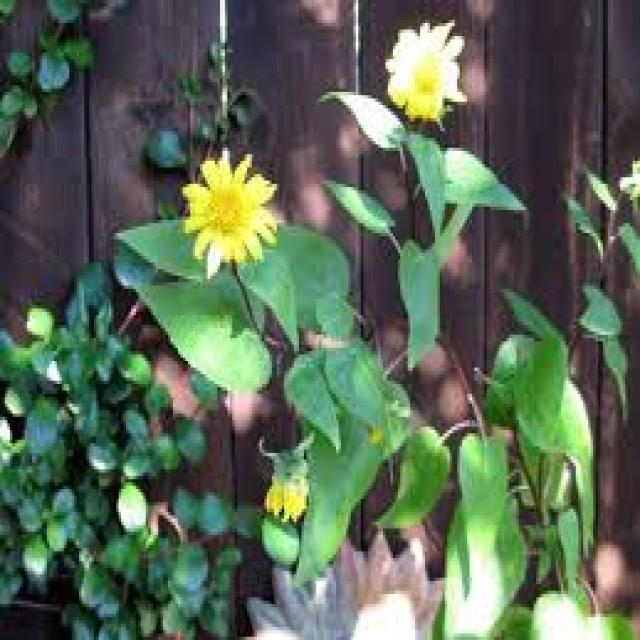sunflower: (174, 136, 283, 284), (378, 13, 475, 145), (251, 422, 328, 534)
